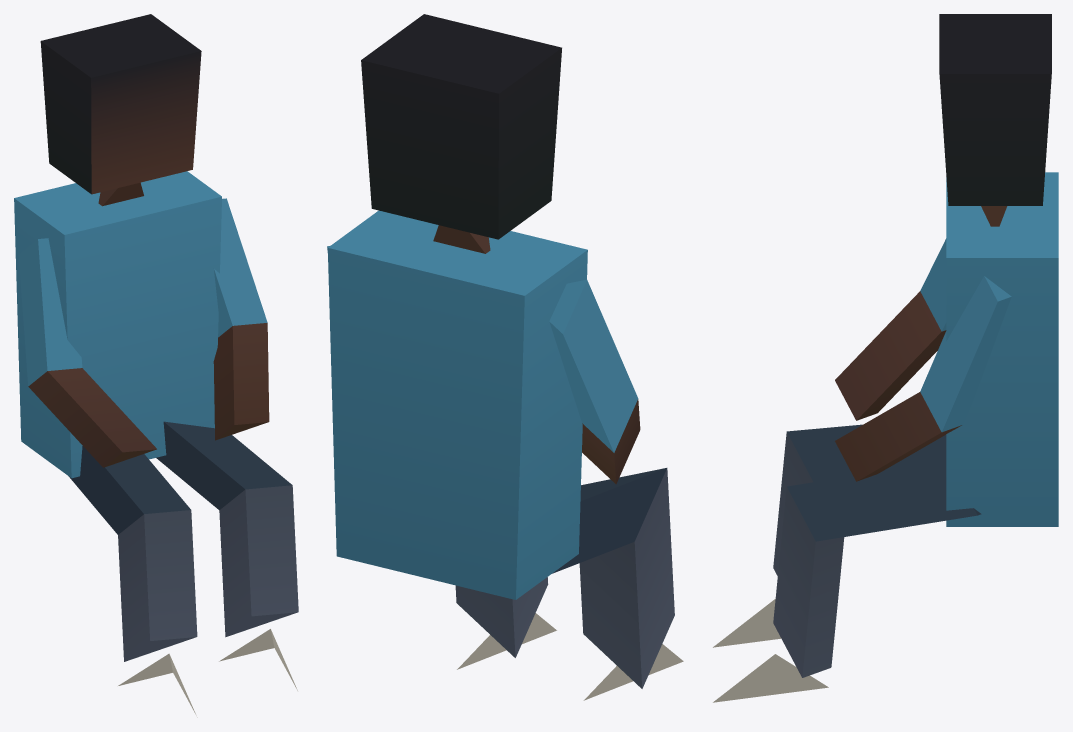
Rendered from fan-10.glb.
3 renders of one model, left to right at view 1: azimuth 30°, elevation 25°; view 2: azimuth 150°, elevation 25°; view 3: azimuth 270°, elevation 25°, orthographic. The views are drawn at different scales.
Visible parts, largest first — view 1: fan-10; view 2: fan-10; view 3: fan-10.
Boxes of the visible parts, box(x1,y1,x2,y2) form: fan-10: box(14, 14, 298, 717); fan-10: box(327, 14, 683, 700); fan-10: box(713, 14, 1058, 702).
Size of the model in its own units: 0.6575 by 1.55 by 0.77.
